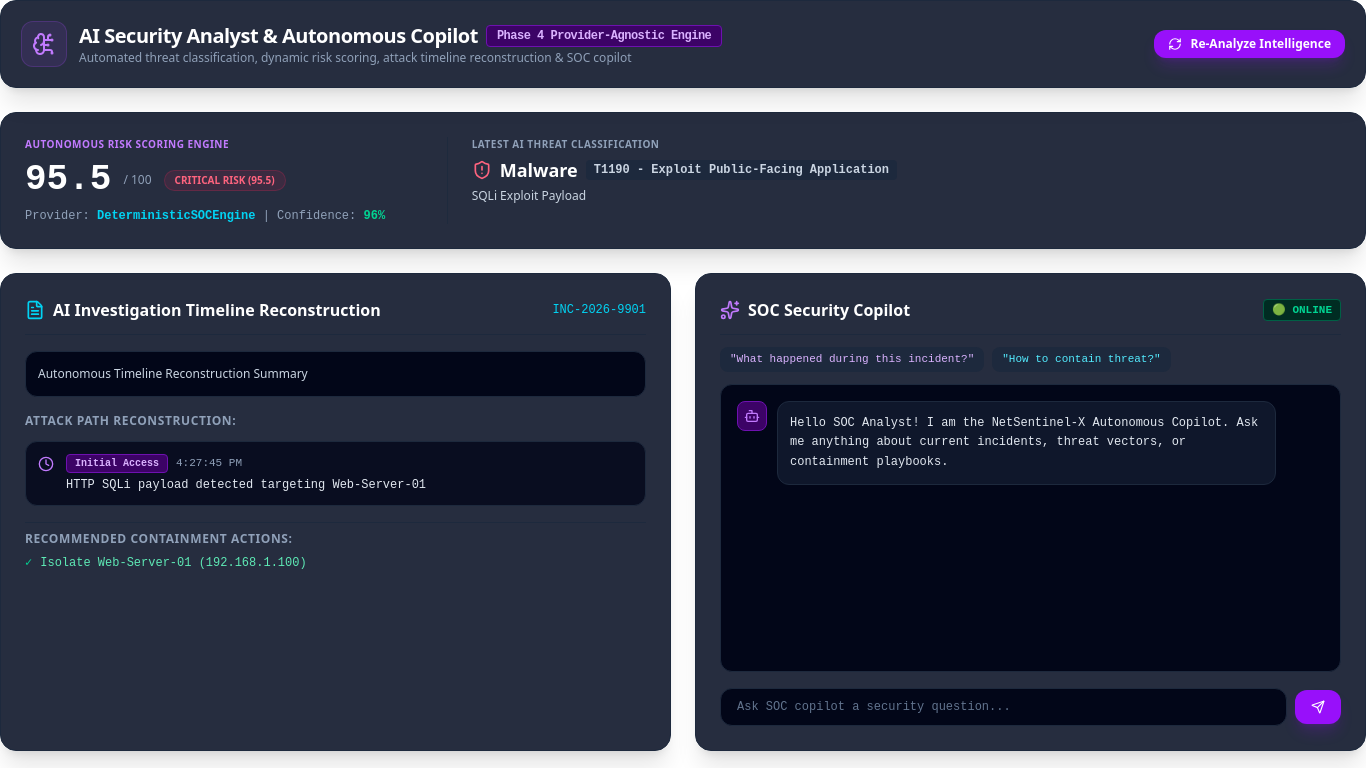
Test: AISecurityAnalystDashboard Component › interacts with SOC Security Copilot chat
Expected: the heading "SOC Security Copilot" is shown, [720, 298, 910, 322]
Click the button "\"What happened during this incident?\"" at x=852, y=359, box [720, 347, 984, 372]
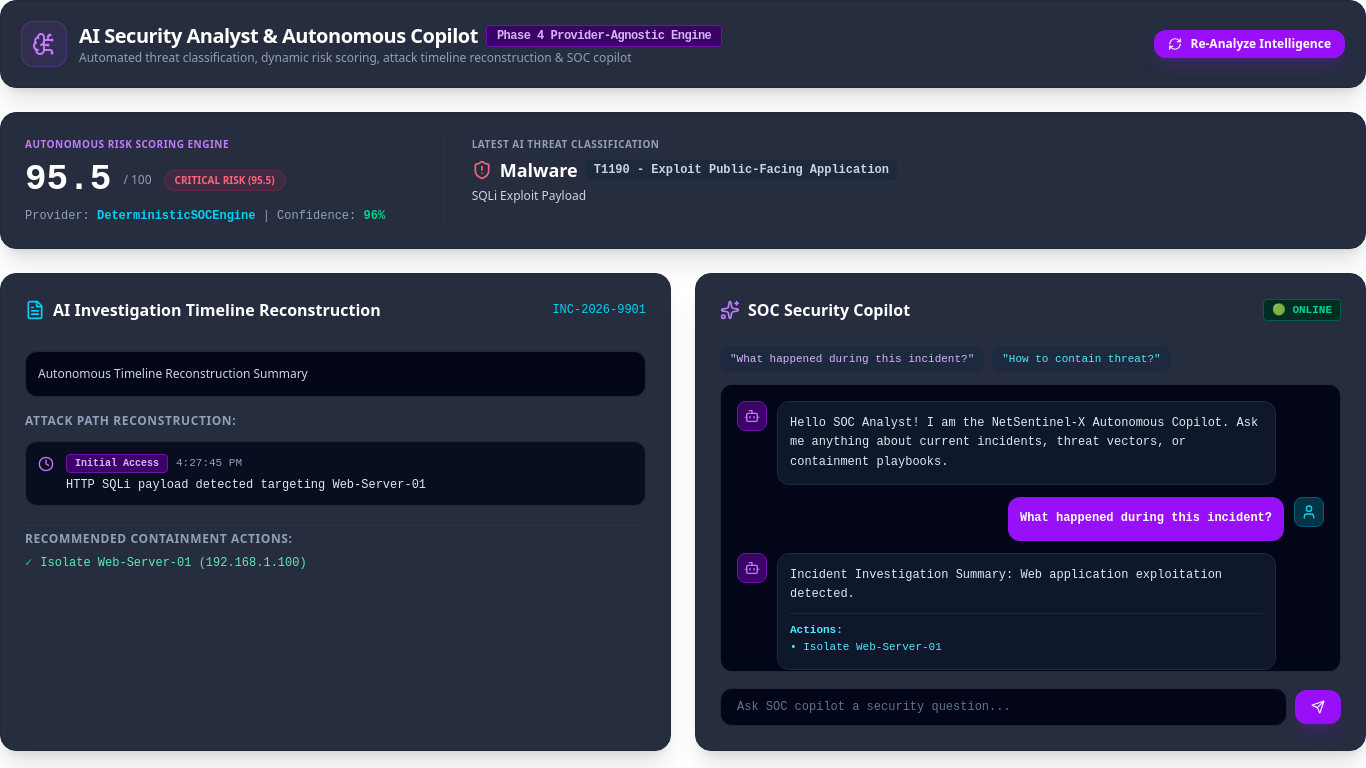
Expected: the text "Incident Investigation Summary: Web application exploitation detected." is shown, [790, 566, 1263, 604]
